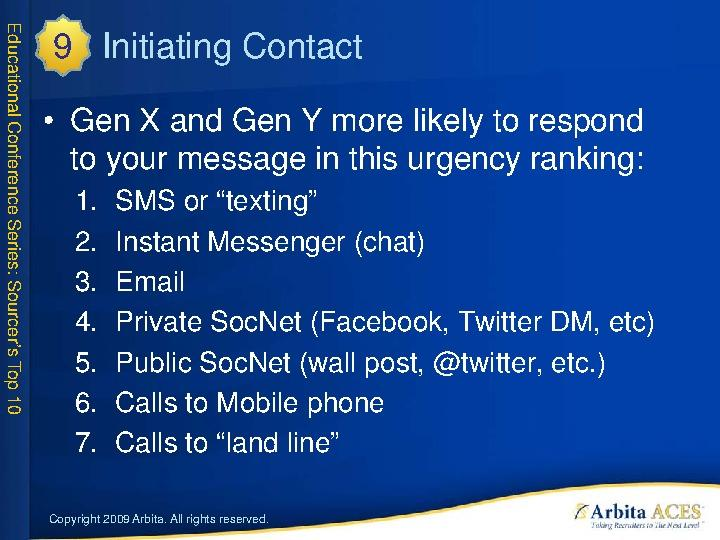paragraph: (39, 96, 698, 464)
title: (94, 21, 385, 76)
